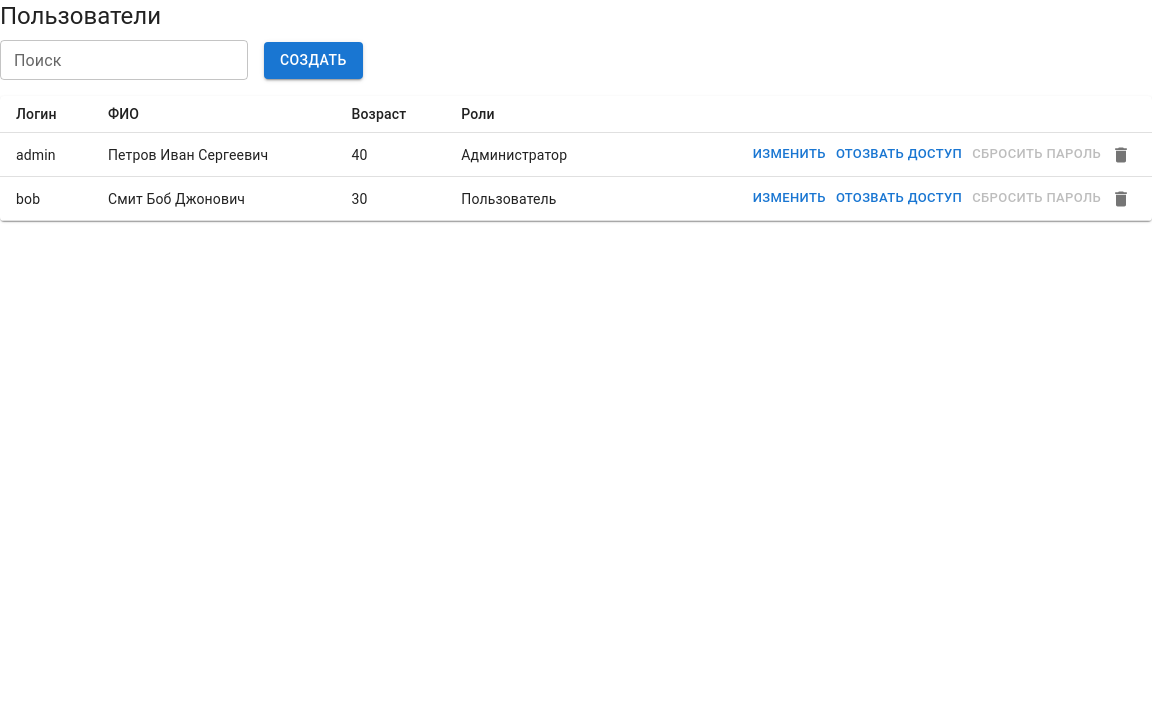
Test: UsersPage › deletes only after confirmation and refreshes
The width and height of the screenshot is (1152, 720).
Step 1. Click the button named "Удалить" in the row of "bob" → x=1121, y=198, box [1106,184,1136,214]
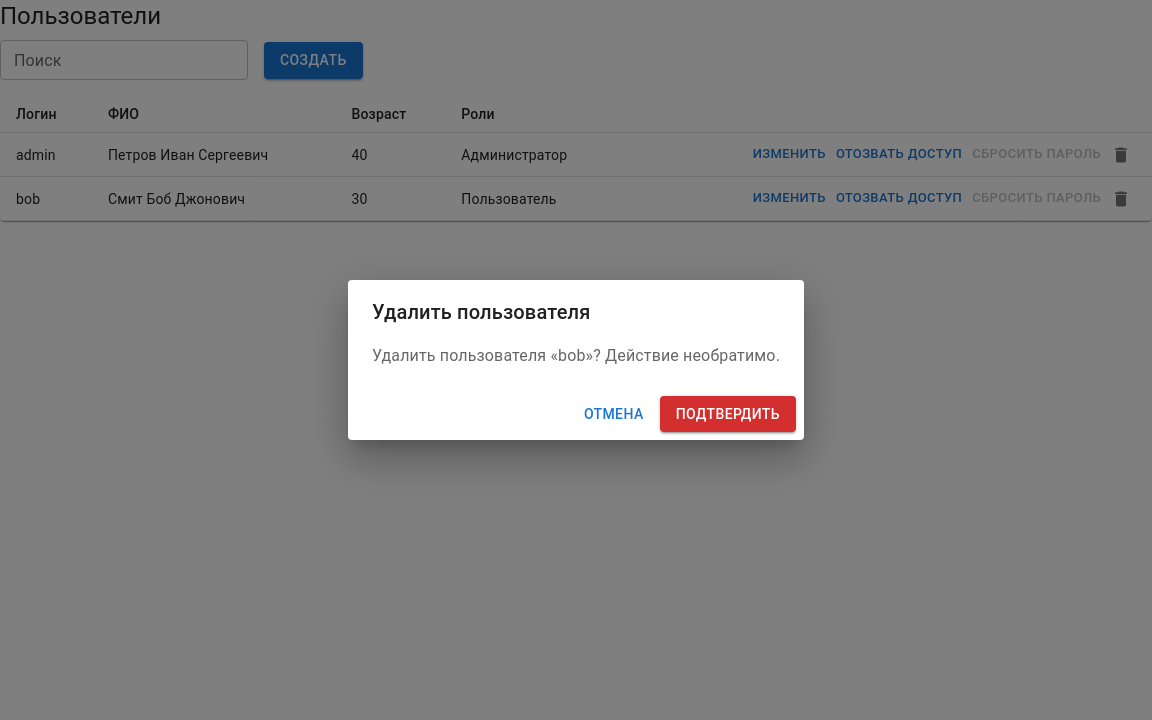
Step 2. Click the button "Отмена" → x=614, y=414, box [576,396,652,432]
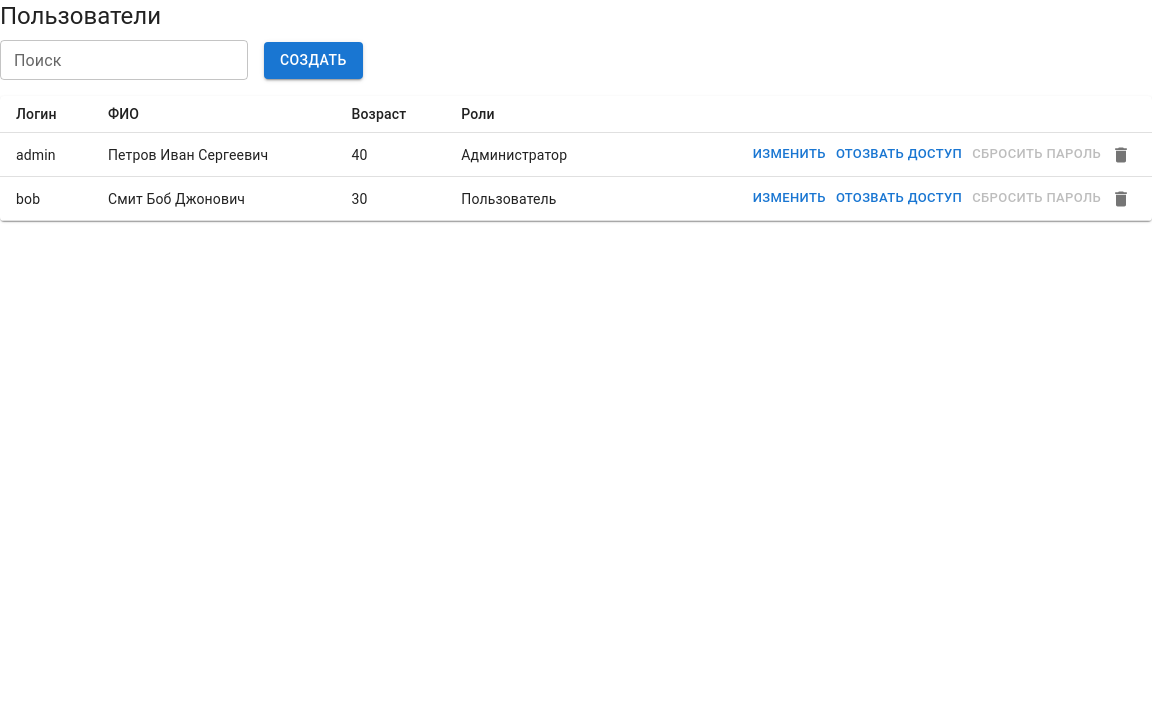
Result: the dialog is gone
Step 3. Click the button named "Удалить" in the row of "bob" → x=1121, y=198, box [1106,184,1136,214]
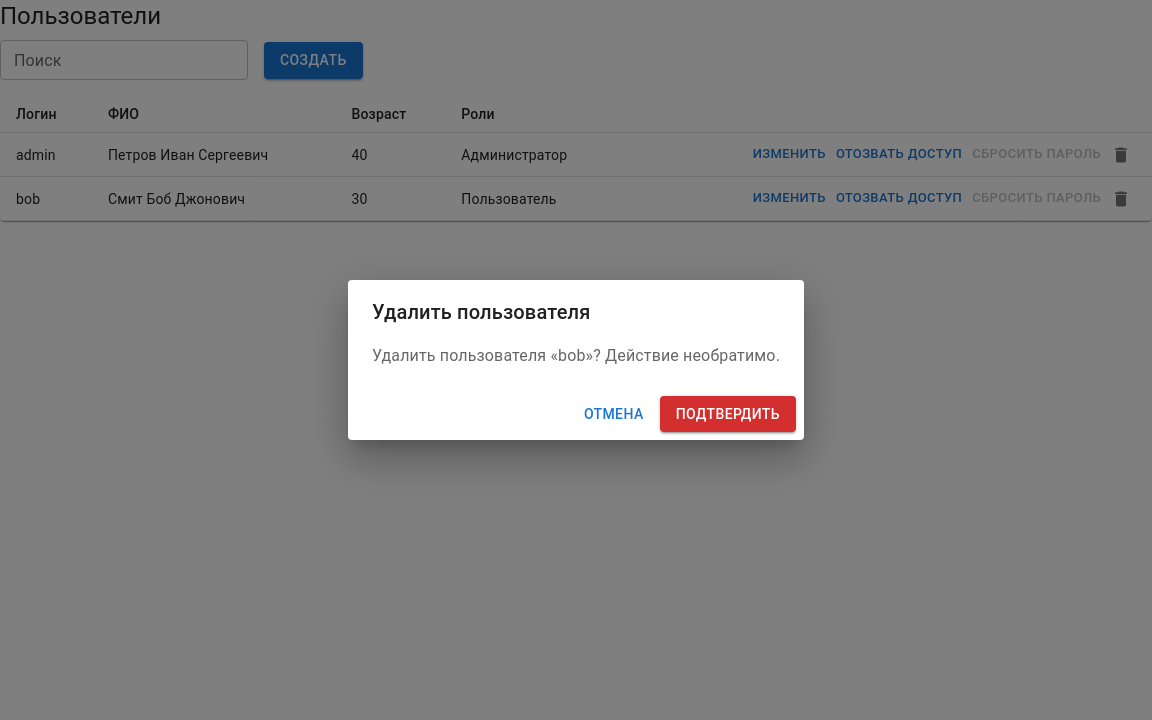
Step 4. Click the button "Подтвердить" → x=728, y=414, box [660,396,796,432]
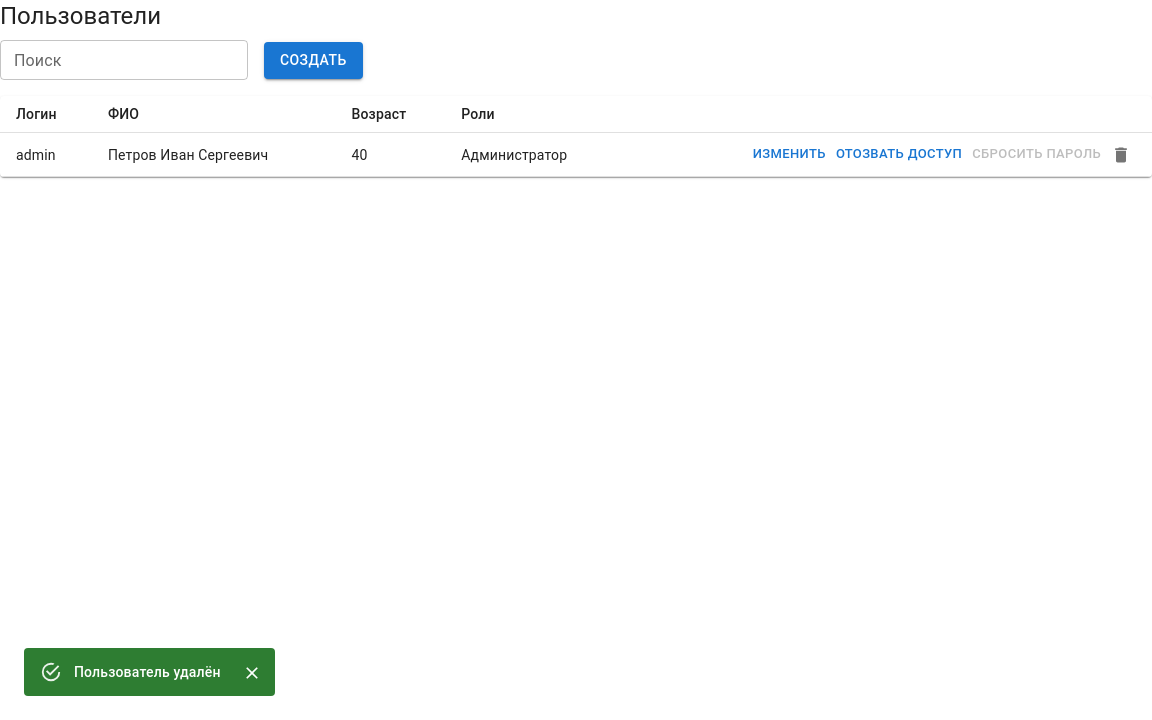
Result: the text "bob" is gone
Result: the text "Пользователь удалён" is shown at [74,664,221,680]
